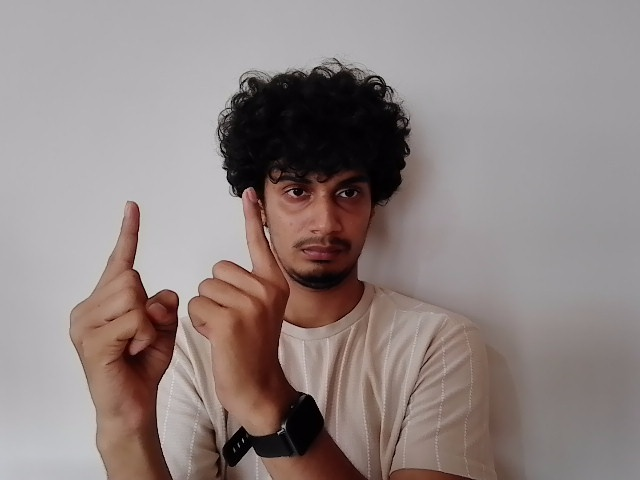play: (69, 186, 294, 389)
